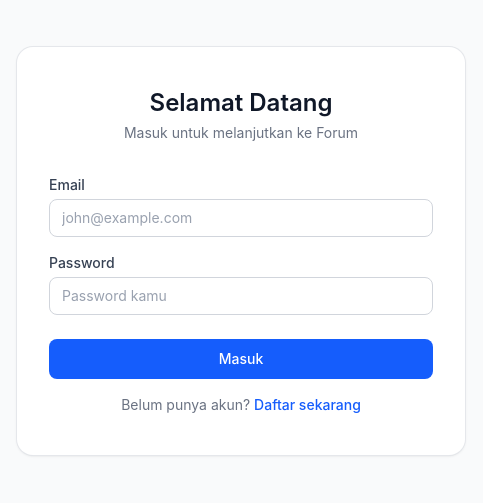
Login Page — E2E › Login gagal — menampilkan pesan error dari API › harus menampilkan banner error saat email tidak terdaftar
The image size is (483, 503).
Step 1. Type "emailyang@tidakterdaftar.com" into the field with id "login-email" → (241, 218), box [49, 199, 433, 237]
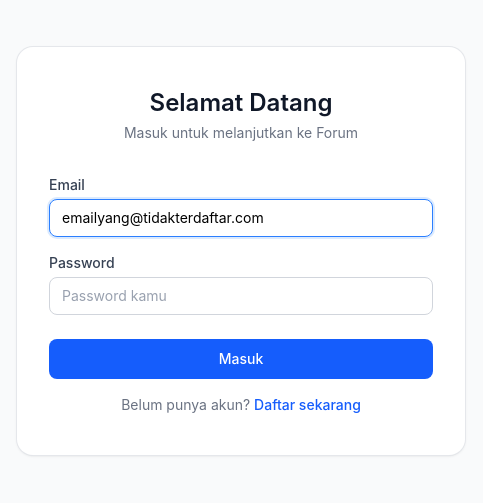
Step 2. Type "sembarangpassword" into the password field with id "login-password" → (241, 296), box [49, 277, 433, 315]
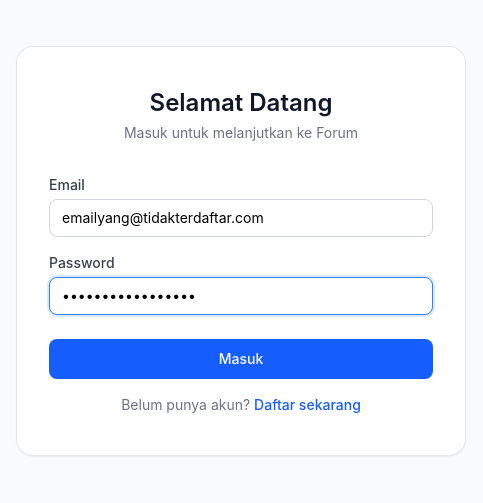
Step 3. Click the submit button → (241, 359), box [49, 339, 433, 379]
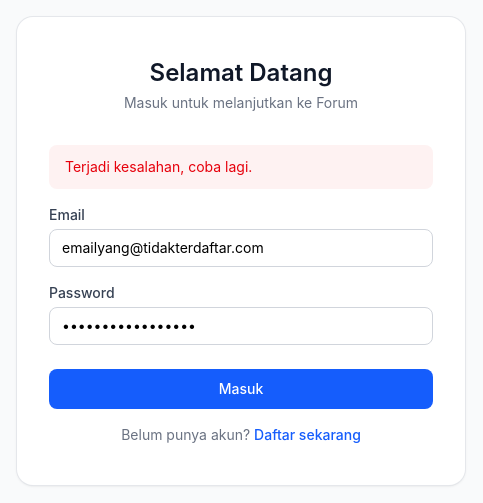
Expected: the message "Terjadi kesalahan, coba lagi." is shown, [49, 145, 433, 189]
